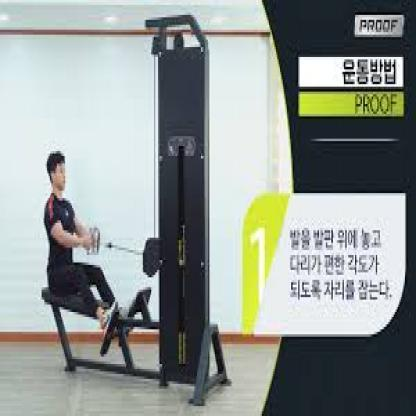Seated Cable Rows: (34, 11, 233, 409)
